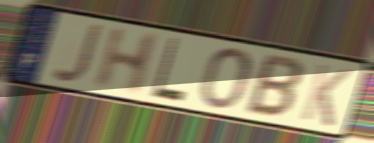B: (242, 51, 305, 121)
H: (90, 26, 163, 97)
J: (50, 22, 106, 85)
K: (298, 61, 354, 130)
L: (149, 35, 188, 105)
O: (198, 46, 254, 111)
